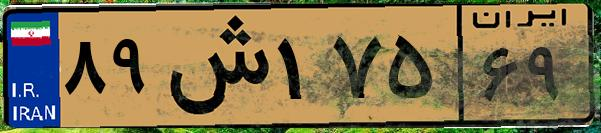1: (270, 28, 330, 110)
5: (385, 28, 445, 110)
6: (475, 38, 525, 113)
7: (330, 28, 385, 110)
8: (57, 26, 110, 100)
9: (525, 38, 570, 115), (110, 28, 158, 98)
ش: (158, 12, 270, 120)
